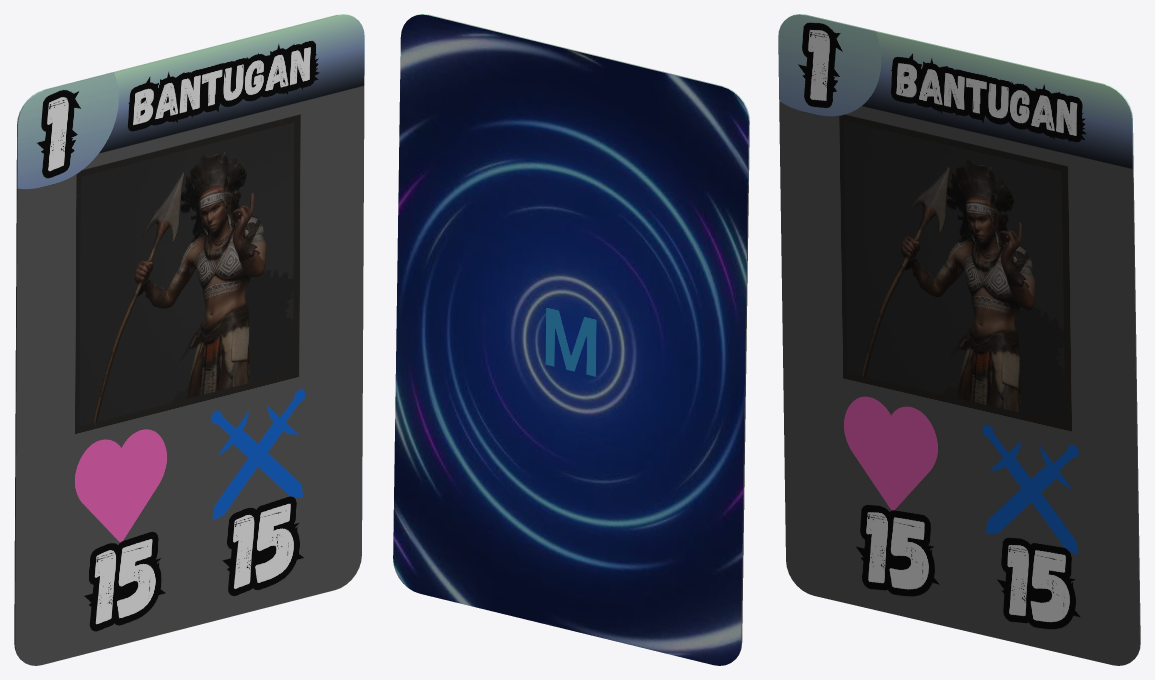
File: Bantugan3.glb
3 views of the same model, side by side, from view 1: azimuth 30°, elevation 25°; view 2: azimuth 150°, elevation 25°; view 3: azimuth 330°, elevation 25° (orthographic).
Visible parts, largest first — view 1: Card; view 2: Card; view 3: Card.
Part boxes in pixels (left/top/right/bottom): Card: left=14, top=14, right=364, bottom=665; Card: left=393, top=14, right=749, bottom=665; Card: left=778, top=14, right=1140, bottom=665.
Size of the model in its own units: 0.0564 by 0.0891 by 0.0024.
2 materials, 2 textured.
